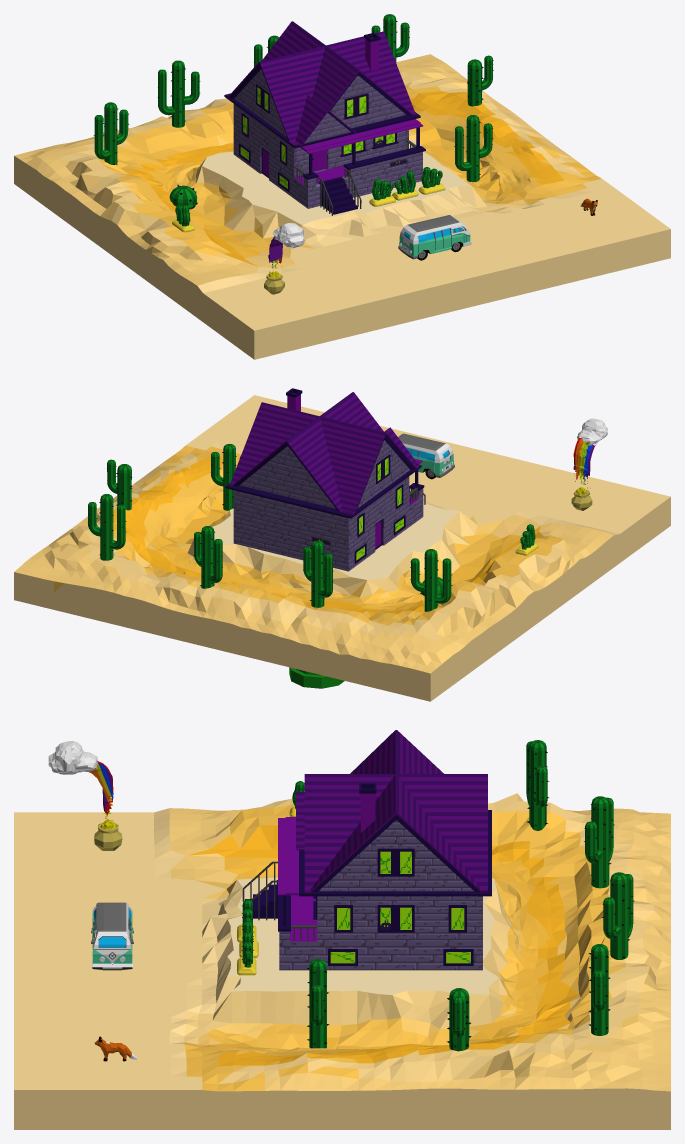
3 renders of one model, top to bottom at view 1: azimuth 30°, elevation 25°; view 2: azimuth 150°, elevation 25°; view 3: azimuth 270°, elevation 25°, orthographic. The views are drawn at different scales.
Parts seen in each view (by area): view 1: Cube.001, Cube.039, VEHICLES_VAN, Cylinder.037, Cylinder.044, Cylinder.045, OBJRANDOM_RAINBOW, Cylinder.038, Cylinder.042, Cylinder.039, Cylinder.041, Sphere.023 (+1 smaller); view 2: Cube.001, Cube.039, Cylinder.042, Cylinder.045, OBJRANDOM_RAINBOW, VEHICLES_VAN, Cylinder.044, Cylinder.043, Cylinder.037, Cylinder.038, UNDERGROUND_PIPES; view 3: Cube.001, Cube.039, VEHICLES_VAN, OBJRANDOM_RAINBOW, Cylinder.043, Cylinder.044, Cylinder.045, Cylinder.042, Cylinder.037, Cylinder.038, Cylinder.041.
Boxes of the visible parts, <box> form: Cube.001: <box>14,54,670,359</box>; Cube.039: <box>224,21,425,215</box>; VEHICLES_VAN: <box>398,215,471,260</box>; Cylinder.037: <box>454,115,493,182</box>; Cylinder.044: <box>157,60,200,127</box>; Cylinder.045: <box>93,102,129,164</box>; OBJRANDOM_RAINBOW: <box>264,223,305,294</box>; Cylinder.038: <box>467,55,493,106</box>; Cylinder.042: <box>371,14,409,62</box>; Cylinder.039: <box>369,179,395,206</box>; Cylinder.041: <box>418,167,445,194</box>; Sphere.023: <box>169,184,197,209</box>; Cube.001: <box>14,395,670,701</box>; Cube.039: <box>225,388,425,571</box>; Cylinder.042: <box>88,494,126,560</box>; Cylinder.045: <box>410,549,452,611</box>; OBJRANDOM_RAINBOW: <box>571,418,607,510</box>; VEHICLES_VAN: <box>398,433,454,479</box>; Cylinder.044: <box>303,540,333,607</box>; Cylinder.043: <box>193,526,222,588</box>; Cylinder.037: <box>211,444,240,510</box>; Cylinder.038: <box>107,459,131,510</box>; UNDERGROUND_PIPES: <box>289,667,344,688</box>; Cube.001: <box>14,793,670,1129</box>; Cube.039: <box>242,730,491,970</box>; VEHICLES_VAN: <box>91,902,133,970</box>; OBJRANDOM_RAINBOW: <box>48,741,122,850</box>; Cylinder.043: <box>602,872,634,959</box>; Cylinder.044: <box>584,796,614,888</box>; Cylinder.045: <box>526,740,549,830</box>; Cylinder.042: <box>588,944,610,1035</box>; Cylinder.037: <box>307,959,329,1048</box>; Cylinder.038: <box>447,988,471,1051</box>; Cylinder.041: <box>237,932,256,975</box>.
Bounding box in the file's own units: 4002 × 2210 × 4001.
35 materials, 5 textured.
